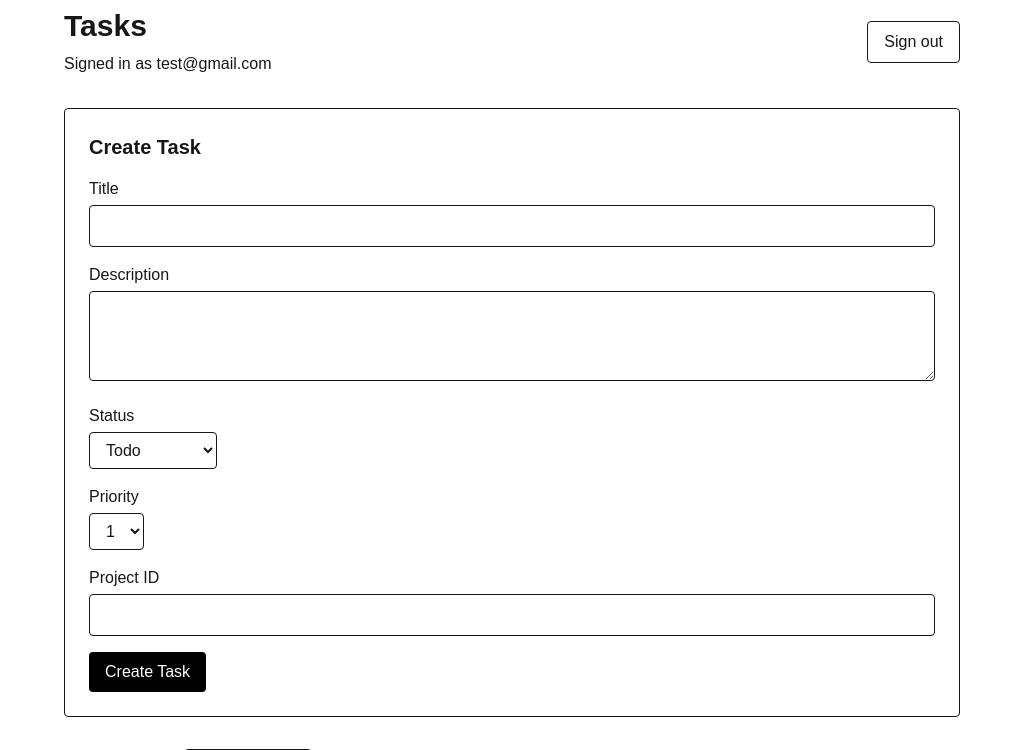
Test: TasksPage mutations › adds a newly created task to the list on a 201 response
// Fill in the required fields
Type "New Test Task" into the field labelled "Title". click: (512, 226)
box: [89, 205, 935, 247]
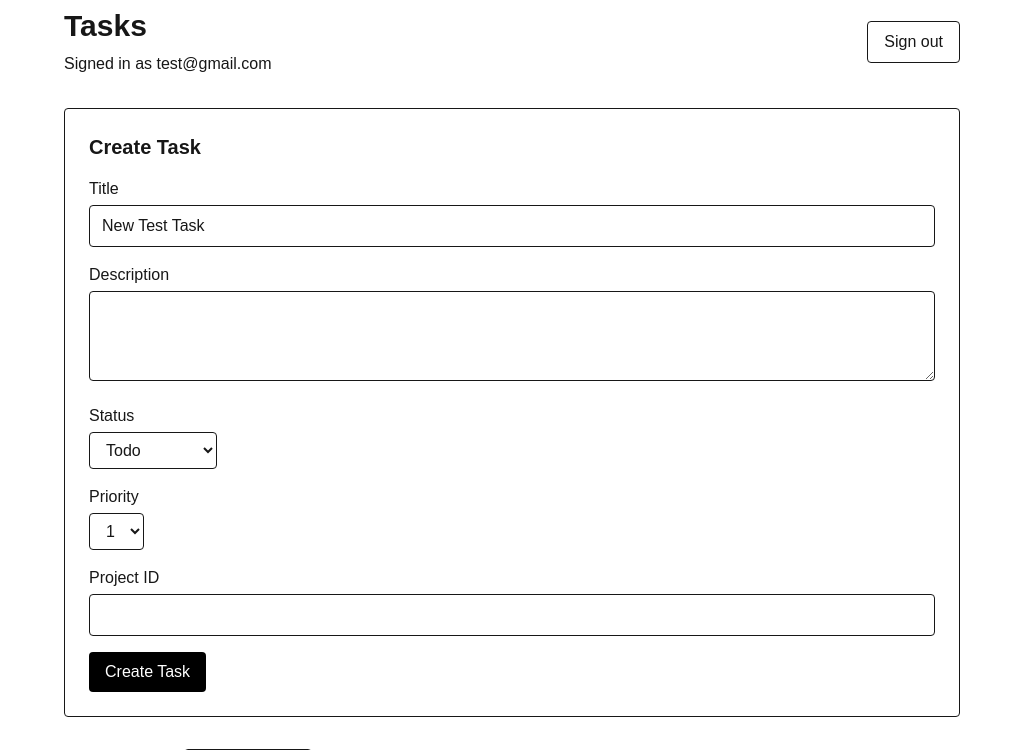
Type "1" into the number field labelled "Project ID". click: (512, 615)
box: [89, 594, 935, 636]
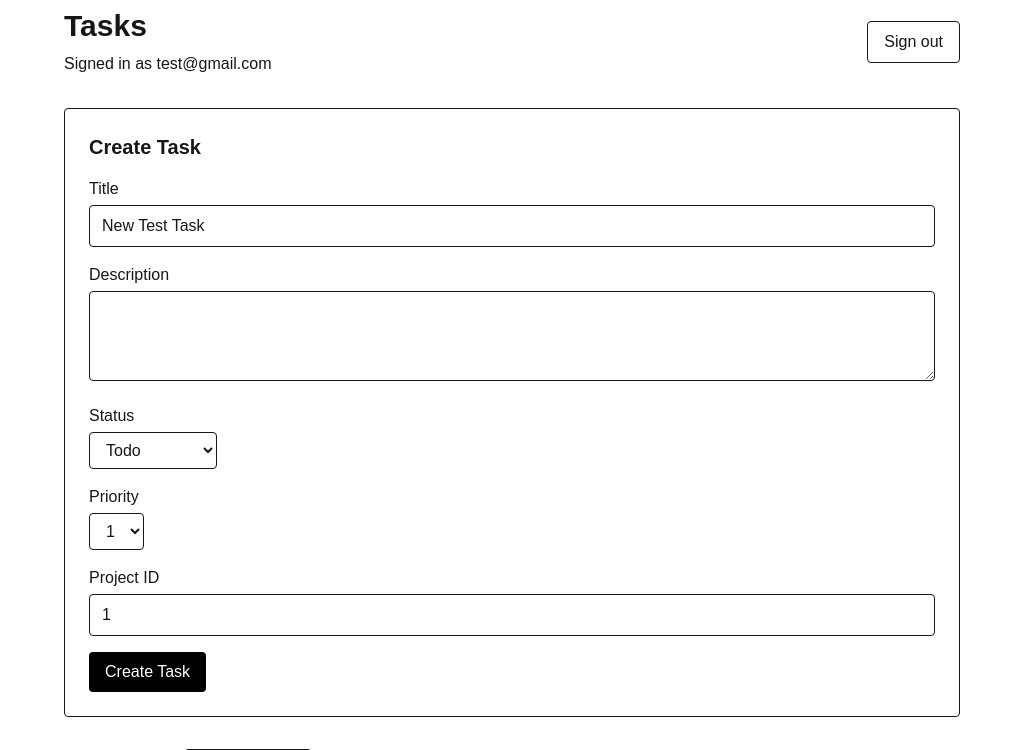
// Submit the form
Click the button "Create Task". click: (148, 672)
box: [89, 652, 206, 692]
(page scrolled)
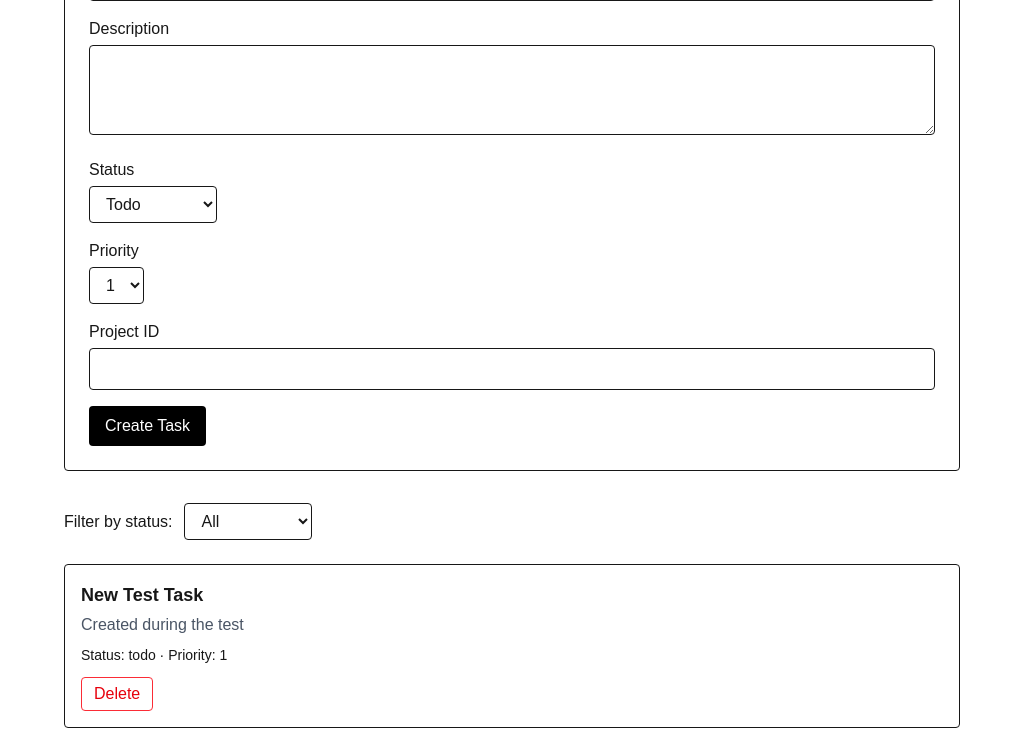
Result: the heading "New Test Task" is shown at [81, 585, 203, 605]
